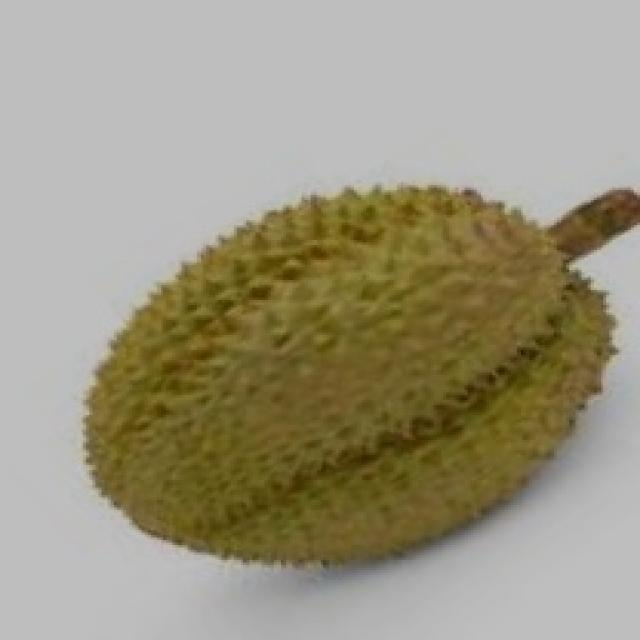fruit: (40, 235, 418, 607)
